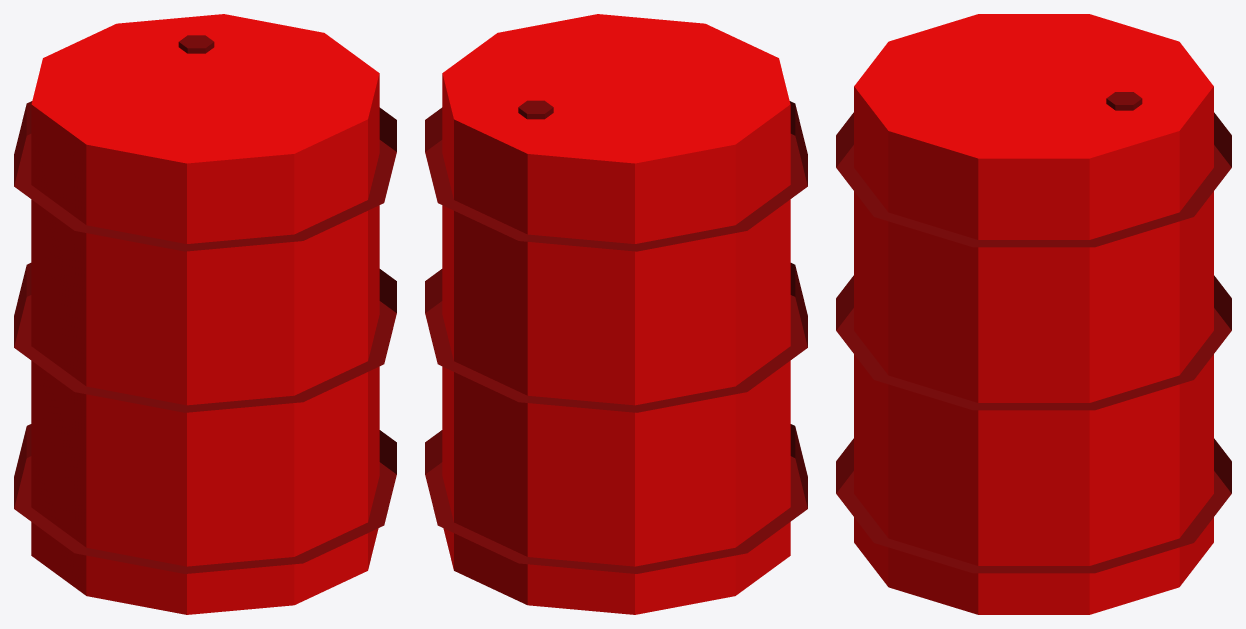
File: barrel.fbx
The picture shows the model from 3 angles, left to right: view 1: azimuth 30°, elevation 25°; view 2: azimuth 150°, elevation 25°; view 3: azimuth 270°, elevation 25°; orthographic projection.
Parts seen in each view (by area): view 1: Cylinder.004; view 2: Cylinder.004; view 3: Cylinder.004.
Part boxes in pixels (x1,y1,x2,y2): Cylinder.004: (14,14,396,614); Cylinder.004: (425,14,807,614); Cylinder.004: (836,14,1231,614).
Size of the model in its own units: 209 by 283 by 220.
Materials: 1 (1 with a texture image).
